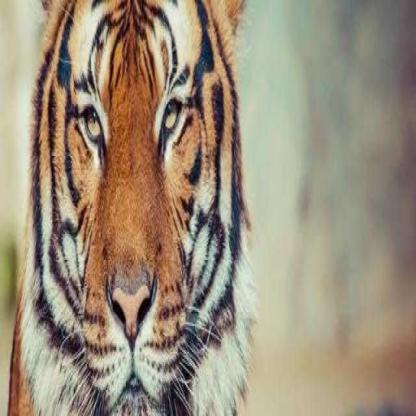Tiger: (6, 0, 252, 415)
